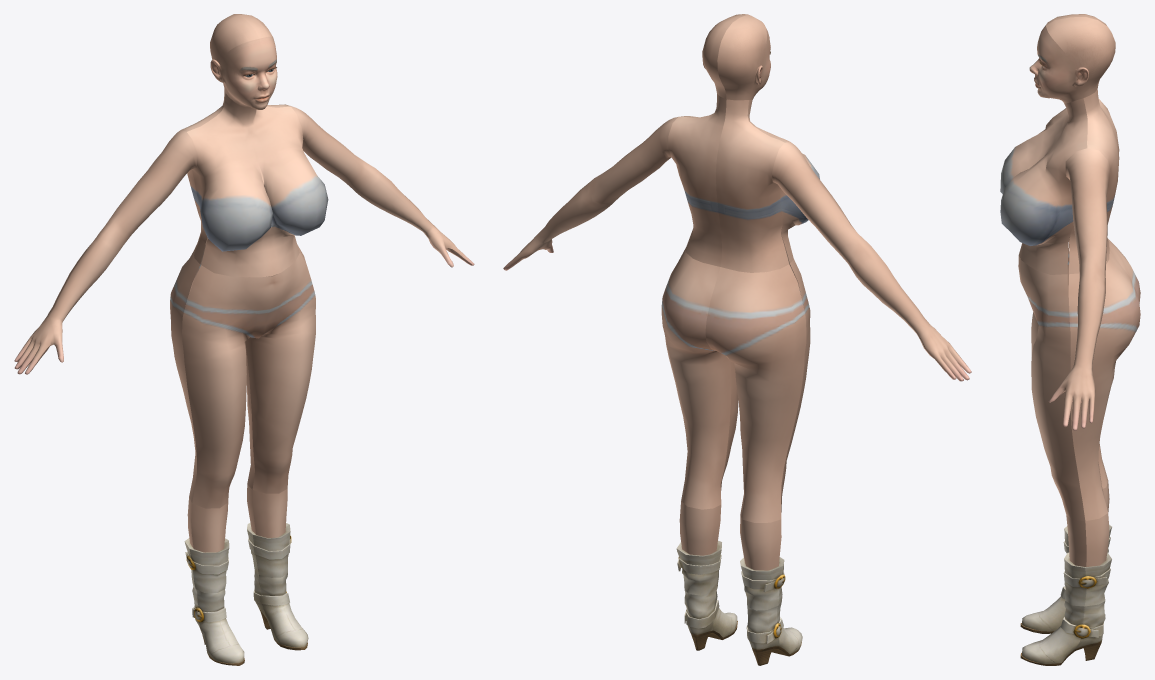
Rendered from sim.glb.
3 renders of one model, left to right at view 1: azimuth 30°, elevation 25°; view 2: azimuth 150°, elevation 25°; view 3: azimuth 270°, elevation 25°, orthographic.
Parts seen in each view (by area): view 1: KasandraRip; view 2: KasandraRip; view 3: KasandraRip.
Boxes of the visible parts, x1,y1,x2,y2 form: KasandraRip: (14, 14, 474, 665); KasandraRip: (503, 14, 971, 665); KasandraRip: (1000, 14, 1140, 665).
Size of the model in its own units: 1.44 by 1.87 by 0.3795.
Materials: 1 (1 with a texture image).
